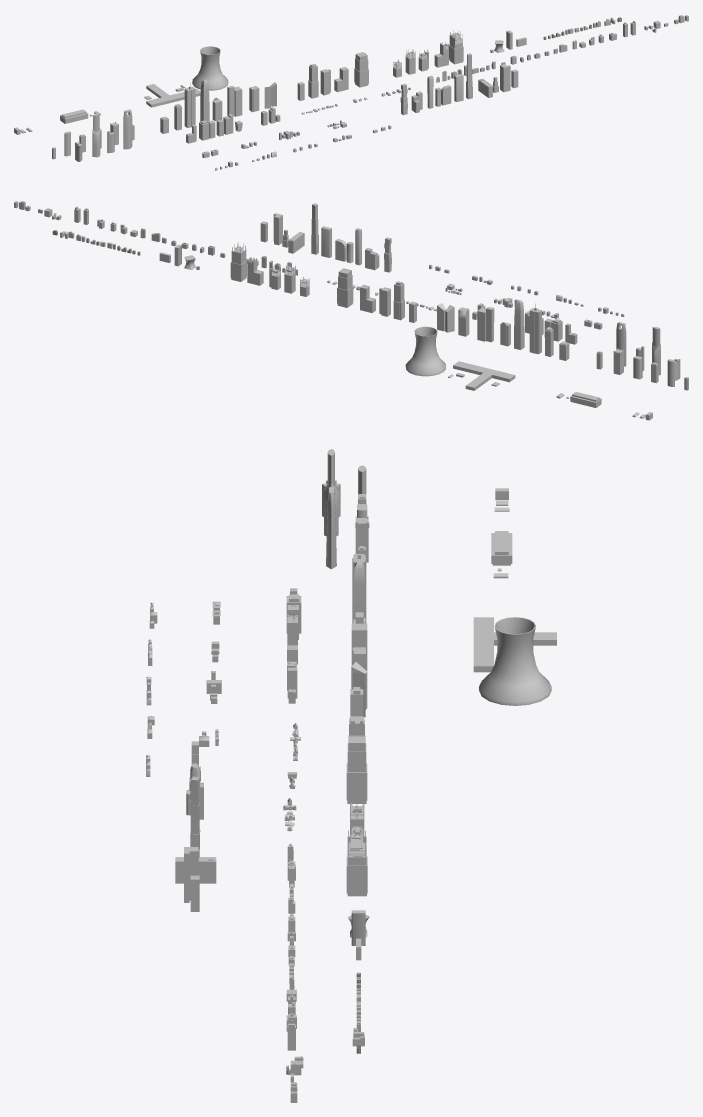
File: all_buildings.FBX
3 views of the same model, one above another, from view 1: azimuth 30°, elevation 25°; view 2: azimuth 150°, elevation 25°; view 3: azimuth 270°, elevation 25° (orthographic). The views are drawn at different scales.
Parts seen in each view (by area): view 1: warehouse3_e, warehouse3_b, sky1_20, sky1_11, sky1_15, sky1_29, sky1_16, sky1_04, sky1_06, sky1_21, sky1_24, barna_lp_sky09 (+6 smaller); view 2: warehouse3_e, warehouse3_b, sky1_20, sky1_11, sky1_15, sky1_29, sky1_16, sky1_21, barna_lp_sky06, sky1_28, sky1_06, sky1_24 (+1 smaller); view 3: warehouse3_e, warehouse3_b, sky1_20, sky1_29.
Part boxes in pixels (x1,y1,x2,y2): warehouse3_e: (192,46,228,90); warehouse3_b: (146,84,200,107); sky1_20: (354,52,368,87); sky1_11: (184,83,195,127); sky1_15: (227,85,242,116); sky1_29: (449,30,463,64); sky1_16: (200,79,209,121); sky1_04: (123,109,132,149); sky1_06: (92,113,100,157); sky1_21: (308,63,318,98); sky1_24: (334,67,348,92); barna_lp_sky09: (500,64,510,92); warehouse3_e: (405,326,445,376); warehouse3_b: (453,361,515,390); sky1_20: (337,268,353,307); sky1_11: (529,303,541,354); sky1_15: (477,307,493,342); sky1_29: (230,242,246,281); sky1_16: (514,300,524,349); sky1_21: (393,281,404,320); barna_lp_sky06: (311,203,318,254); sky1_28: (247,257,263,285); sky1_06: (652,326,660,375); sky1_24: (360,285,375,313); warehouse3_e: (479,617,551,705); warehouse3_b: (473,617,556,672); sky1_20: (346,735,367,803); sky1_29: (346,827,367,896).
Size of the model in its own units: 3385 by 239 by 971.
